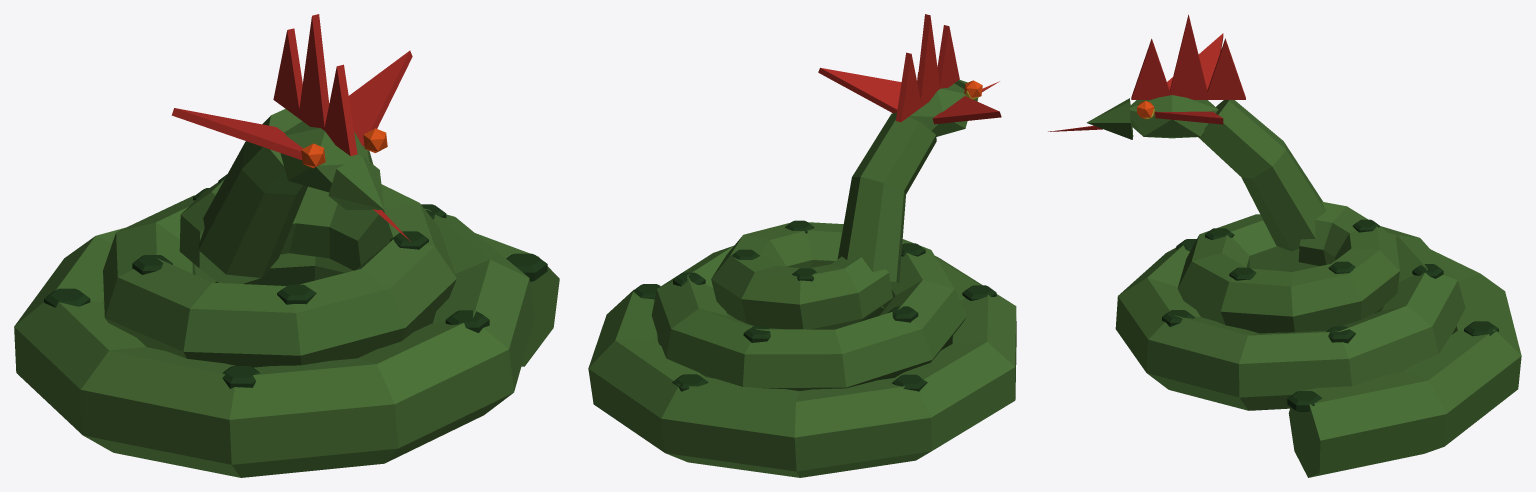
Rendered from beast_basilisk.glb.
3 renders of one model, left to right at view 1: azimuth 30°, elevation 25°; view 2: azimuth 150°, elevation 25°; view 3: azimuth 270°, elevation 25°, orthographic. The views are drawn at different scales.
Visible parts, largest first — view 1: beast_basilisk; view 2: beast_basilisk; view 3: beast_basilisk.
Part boxes in pixels (x1,y1,x2,y2): beast_basilisk: (14,14,559,477); beast_basilisk: (588,14,1016,477); beast_basilisk: (1048,14,1521,477).
Bounding box in the file's own units: 2.13 × 1.93 × 2.33.
